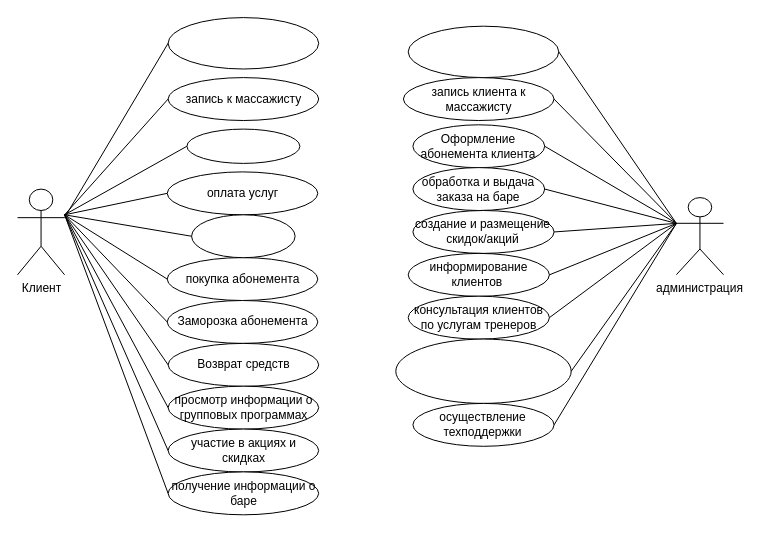
Some shapes in this 761 by 533 pixel diagram are drawn without their labels. Here are the shapes that lost their labels. From the top down, the box of each, then its label:
(167, 17, 319, 69): просмотр информации об услугах
(407, 25, 559, 78): размещение информации об услугах
(186, 128, 300, 163): запись к тренеру
(191, 214, 295, 258): заказ из бара
(395, 338, 571, 403): консультация клиентов по услугам тренеров групповых программ
